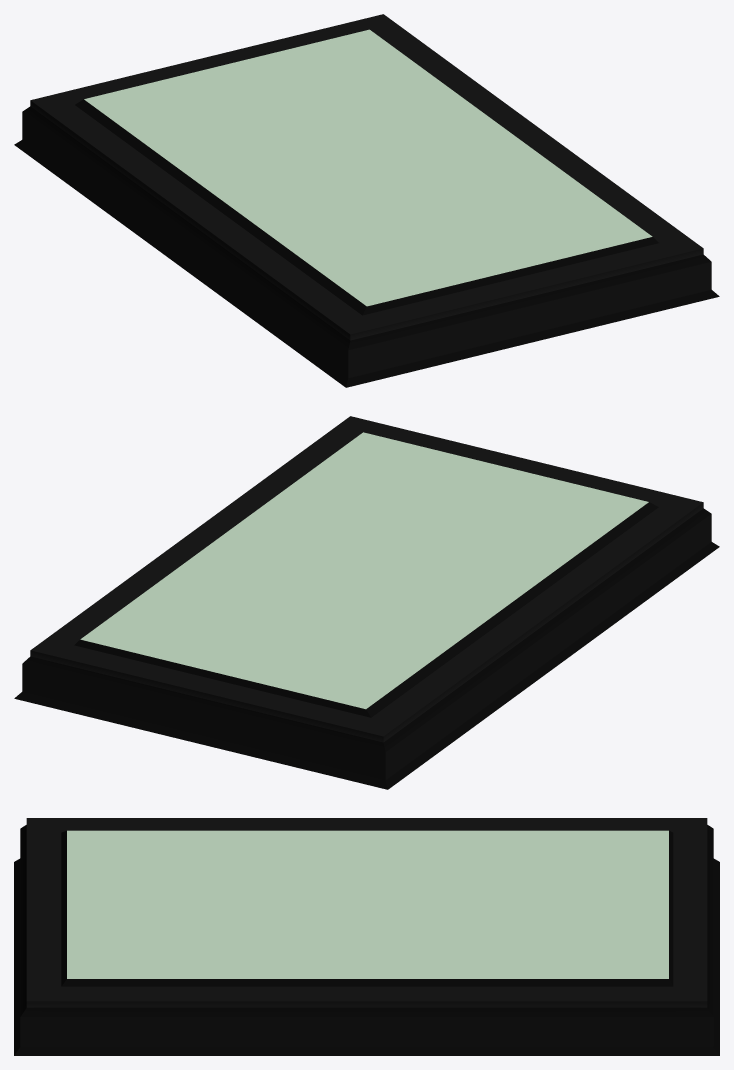
Rendered from Board_Table_2.FBX.
3 views of the same model, one above another, from view 1: azimuth 30°, elevation 25°; view 2: azimuth 150°, elevation 25°; view 3: azimuth 270°, elevation 25° (orthographic). The views are drawn at different scales.
Parts seen in each view (by area): view 1: Plauqe; view 2: Plauqe; view 3: Plauqe.
Part boxes in pixels (left/top/right/bottom): Plauqe: left=14, top=14, right=719, bottom=387; Plauqe: left=14, top=416, right=719, bottom=789; Plauqe: left=14, top=818, right=719, bottom=1055.
Size of the model in its own units: 42.25 by 5.6 by 65.
